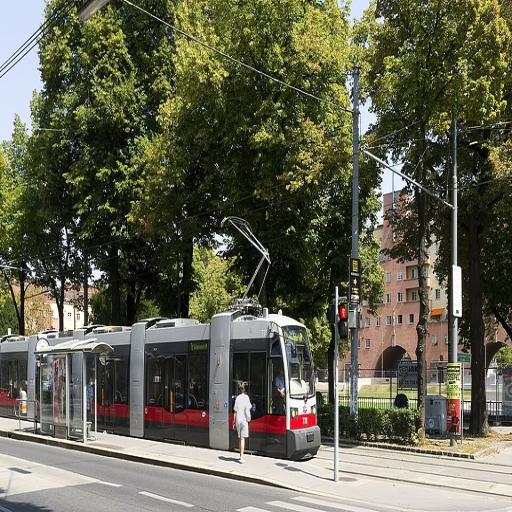ULF: (1, 310, 325, 462)
